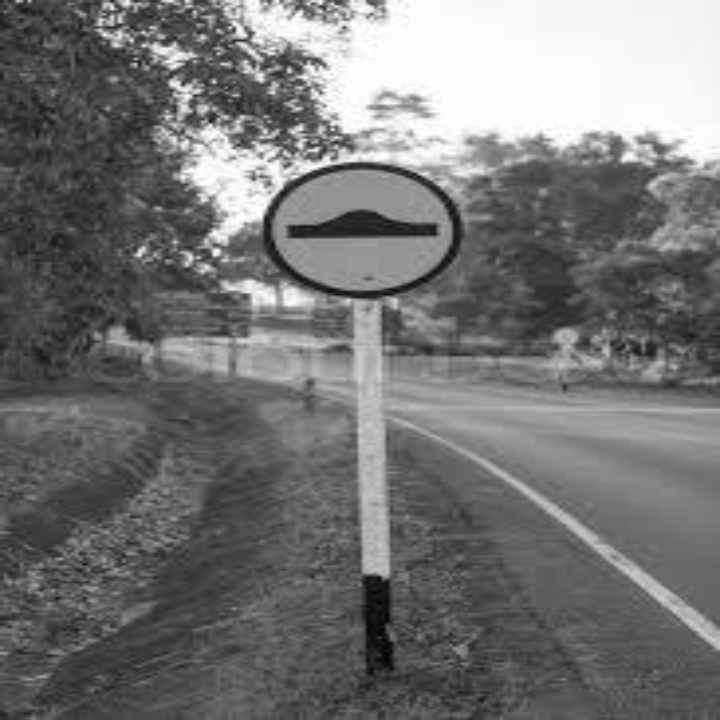bump: (282, 197, 445, 252)
